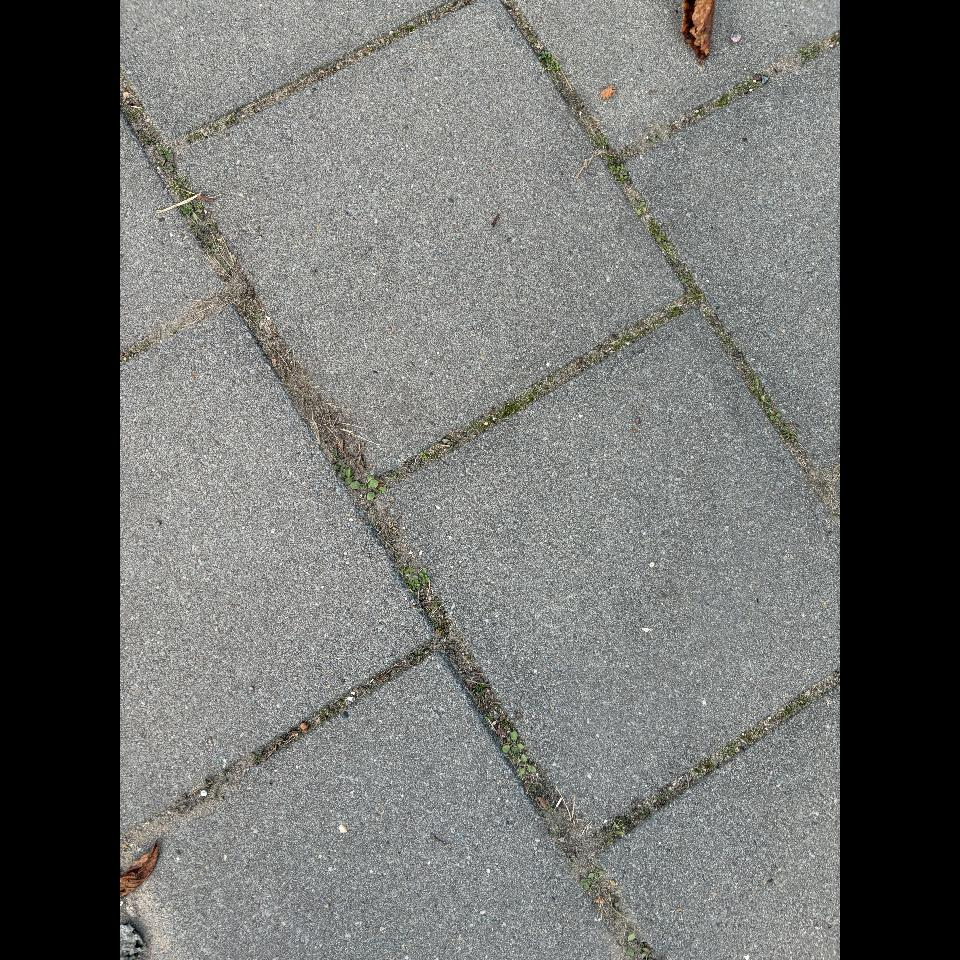weed: (188, 222, 220, 253), (406, 567, 430, 590), (580, 870, 605, 890), (157, 145, 174, 172), (503, 732, 524, 752), (518, 753, 536, 776), (367, 479, 387, 499), (350, 475, 373, 489), (546, 56, 562, 73), (781, 426, 798, 442), (338, 467, 353, 484), (625, 933, 635, 957), (750, 376, 760, 396), (180, 204, 193, 217), (689, 288, 706, 297), (770, 412, 782, 422), (637, 202, 645, 216), (680, 272, 691, 282), (617, 175, 628, 185), (539, 51, 548, 62), (144, 136, 156, 144), (663, 243, 673, 251), (223, 119, 233, 127), (657, 233, 665, 242), (735, 83, 742, 92), (617, 163, 625, 170), (421, 450, 427, 459), (192, 132, 200, 138)
